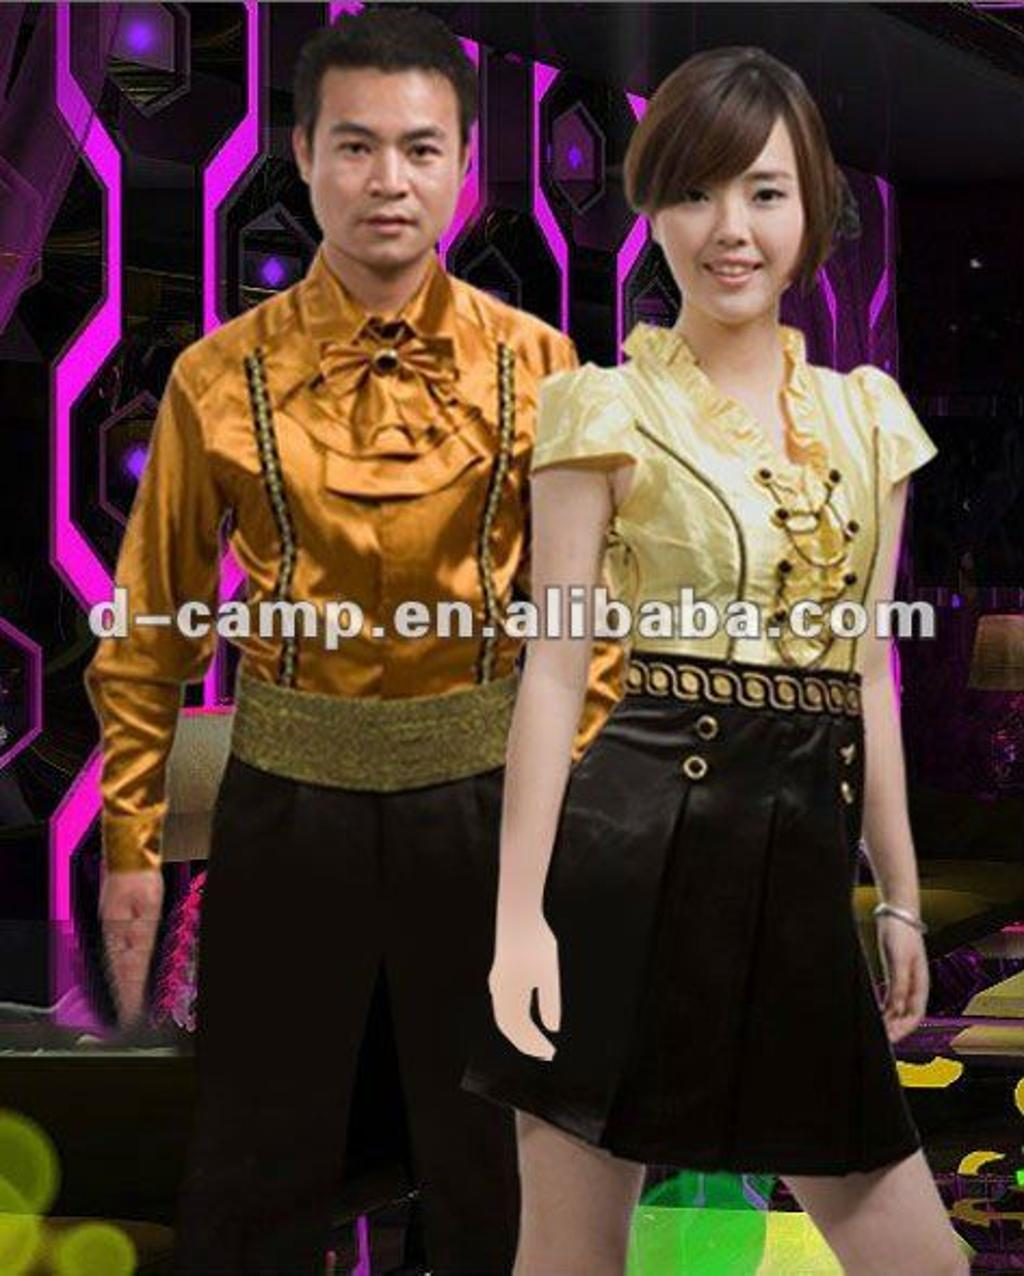face: (311, 65, 460, 262), (663, 117, 808, 311)
